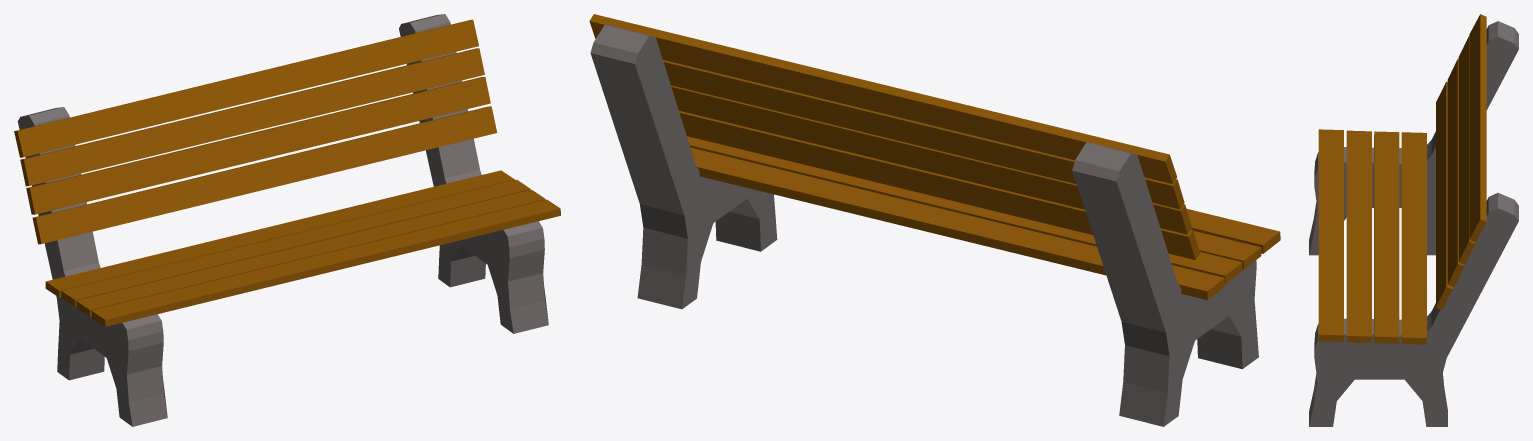
The model's file is bench.fbx.
The picture shows the model from 3 angles, left to right: view 1: azimuth 30°, elevation 25°; view 2: azimuth 150°, elevation 25°; view 3: azimuth 270°, elevation 25°; orthographic projection. The views are drawn at different scales.
Parts seen in each view (by area): view 1: Cube, Circle; view 2: Cube, Circle; view 3: Cube, Circle.
Boxes of the visible parts, <box> form: Cube: <box>14,19,560,326</box>; Circle: <box>17,14,548,426</box>; Cube: <box>589,14,1280,300</box>; Circle: <box>590,25,1258,426</box>; Cube: <box>1318,14,1486,344</box>; Circle: <box>1309,21,1518,426</box>.
Size of the model in its own units: 479 by 237 by 207.
